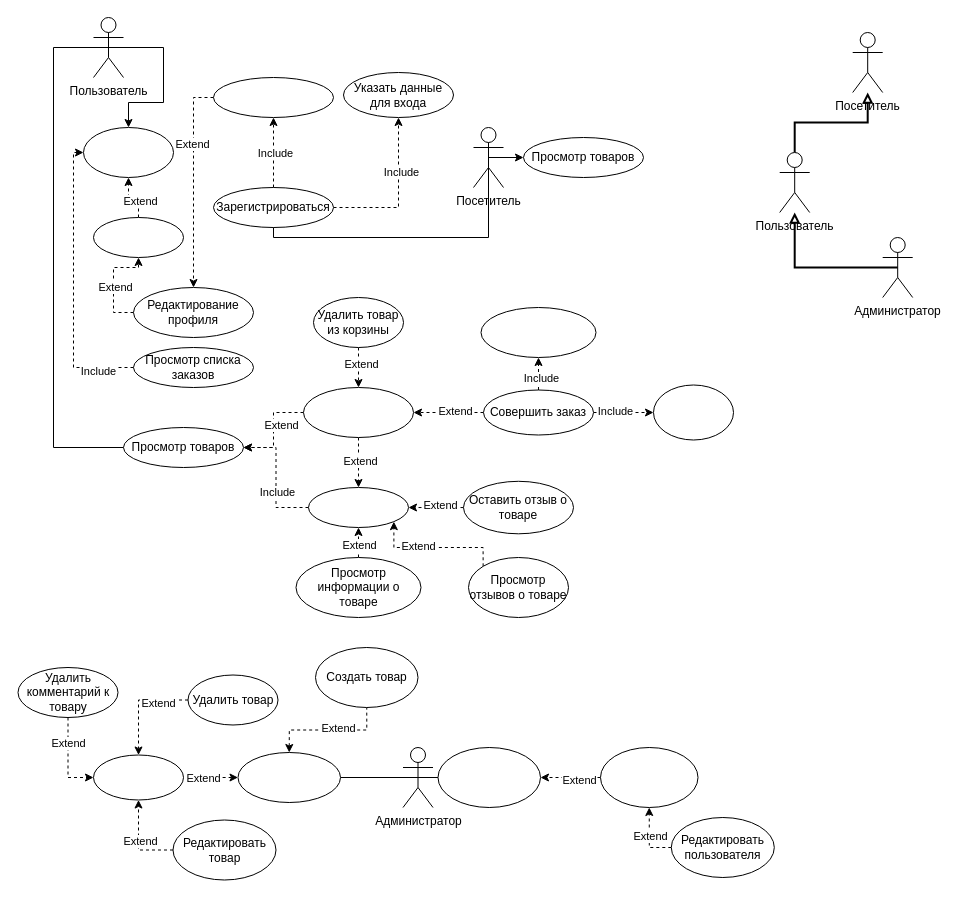
Image size: 958x898. Some labels were removed from this diagram. Each missing label, with the box of its shape:
Авторизоваться: (82, 126, 174, 178)
Выбор пользователя: (600, 746, 698, 808)
Выбор товара: (92, 754, 184, 800)
Добавить товар в корзину: (302, 386, 414, 438)
Оплатить заказ: (652, 384, 734, 440)
Просмотр профиля: (92, 216, 184, 258)
Просмотр товара: (308, 486, 408, 528)
Указать адрес доставки: (480, 306, 596, 358)
Указать имя пользователя: (212, 76, 334, 118)
Управление пользвателями: (437, 746, 540, 808)
Управление товарами: (237, 752, 340, 802)
